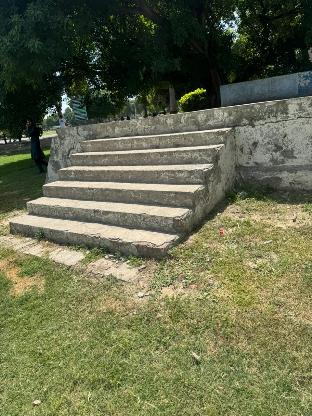stair: (24, 119, 238, 261)
